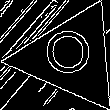O_S: (45, 30, 96, 84)
